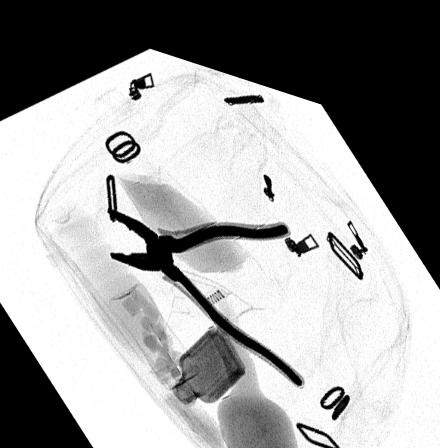Pliers: (105, 197, 304, 369)
